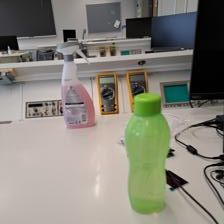bottle: (122, 90, 172, 213)
